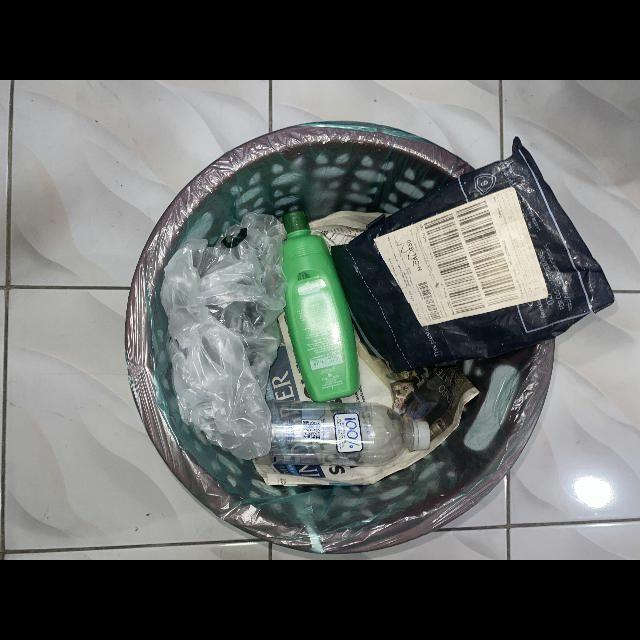paper: (255, 337, 480, 486)
plastic_bag: (330, 139, 616, 374), (160, 213, 287, 462)
plastic_bottle: (282, 211, 360, 403), (253, 400, 431, 467)
